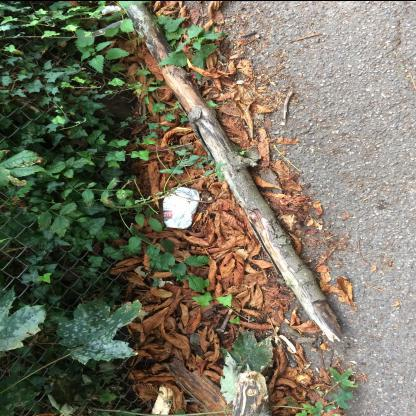metal: (164, 187, 202, 230)
